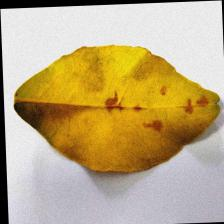black spot: (88, 89, 209, 134)
